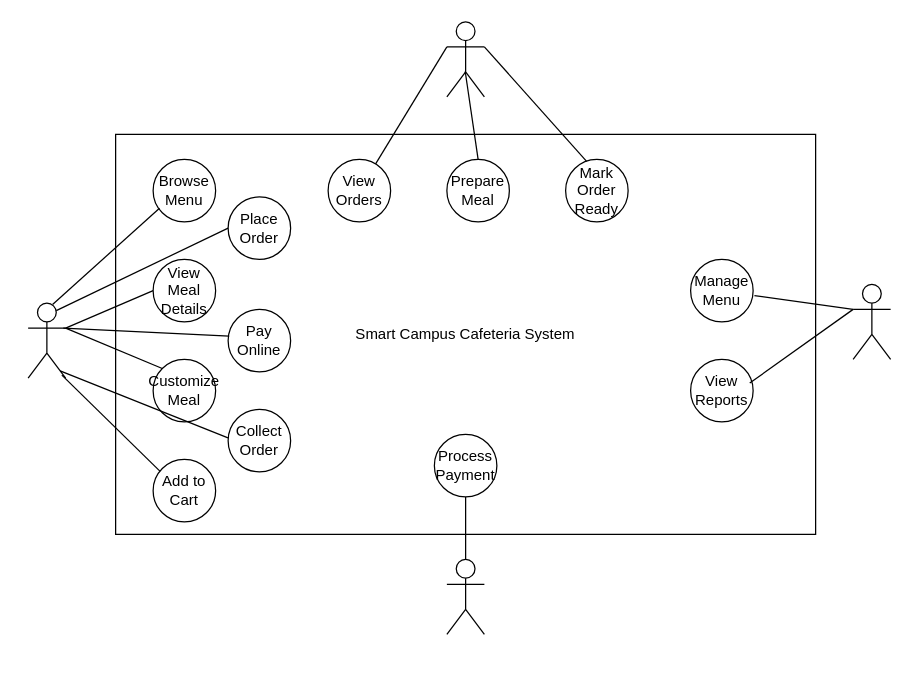
Image size: 915x683. Some labels were removed from this diagram. The shapes that lost their labels are listed below. From the top down, each one's centre as x and y in pixels, then its label:
At [465,59]: "Kitchen Staff".
At [46,340]: "Student".
At [871,321]: "Admin".
At [465,596]: "Payment System".
